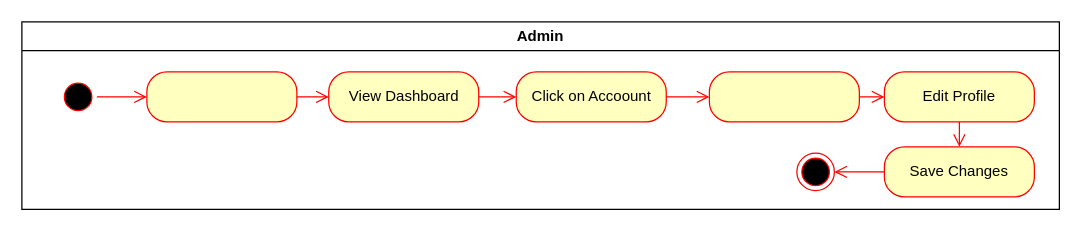
Image size: 1081x231. Some labels were removed from this diagram. Each missing label, with the centre of its shape:
"Click Edit Icon" goes at [783,96].
"Login" goes at [221,96].
